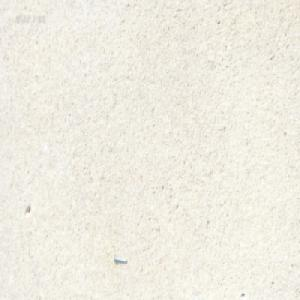Nail: (112, 254, 127, 263)
